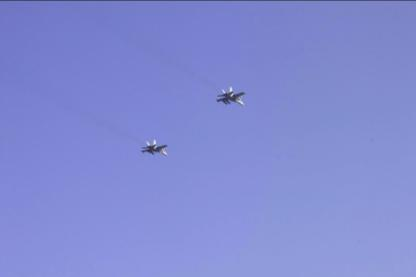F15: (214, 86, 246, 105), (140, 138, 168, 154)
